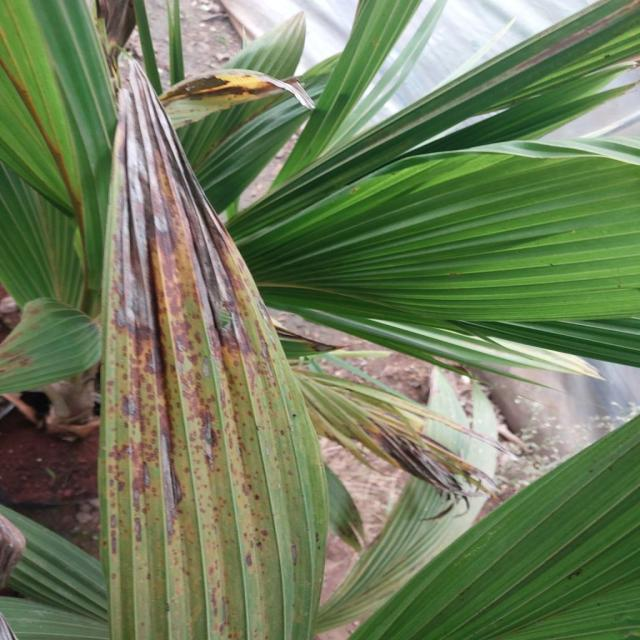gray leaf spot: (87, 0, 348, 640)
